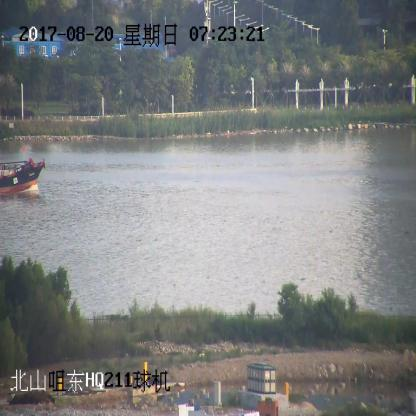Fishing Boat: (0, 151, 46, 193)
